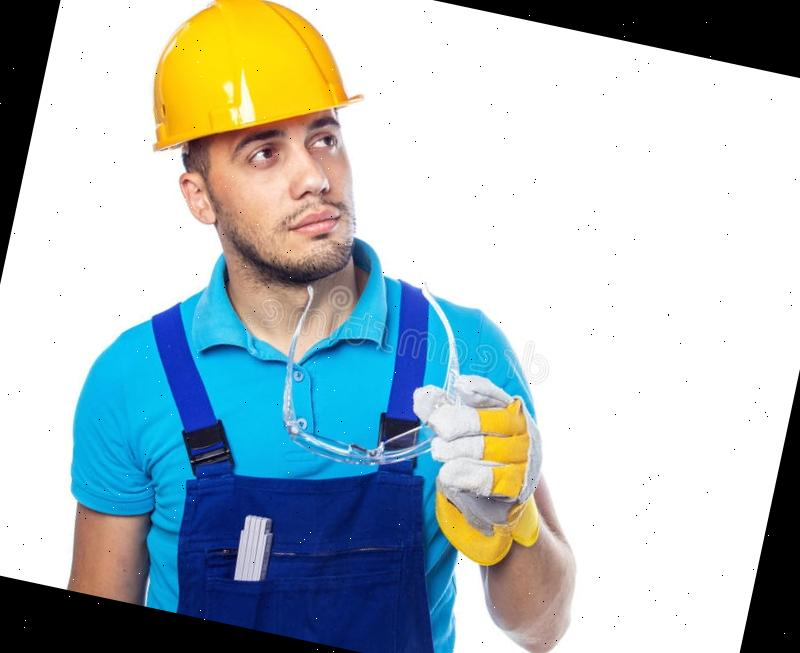helmet: (131, 0, 385, 200)
no_wear: (69, 266, 506, 653)
